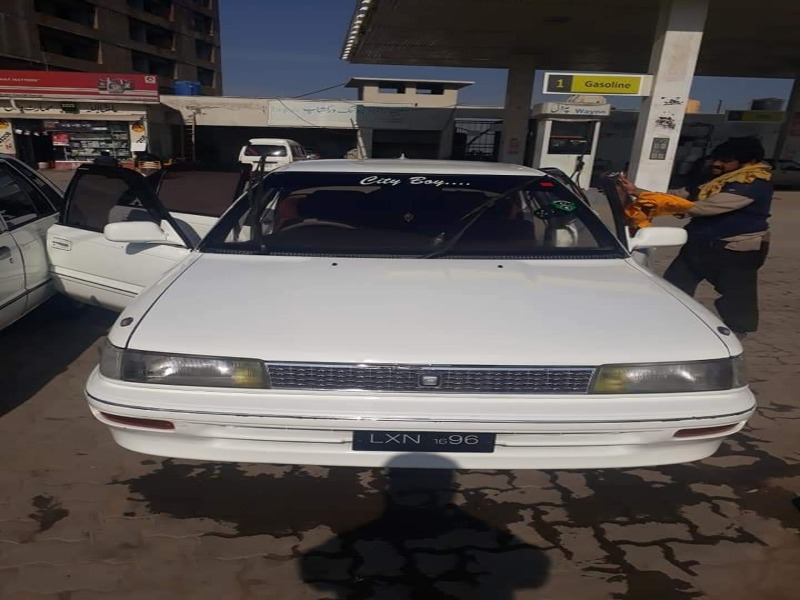License Plate: (346, 424, 502, 460)
